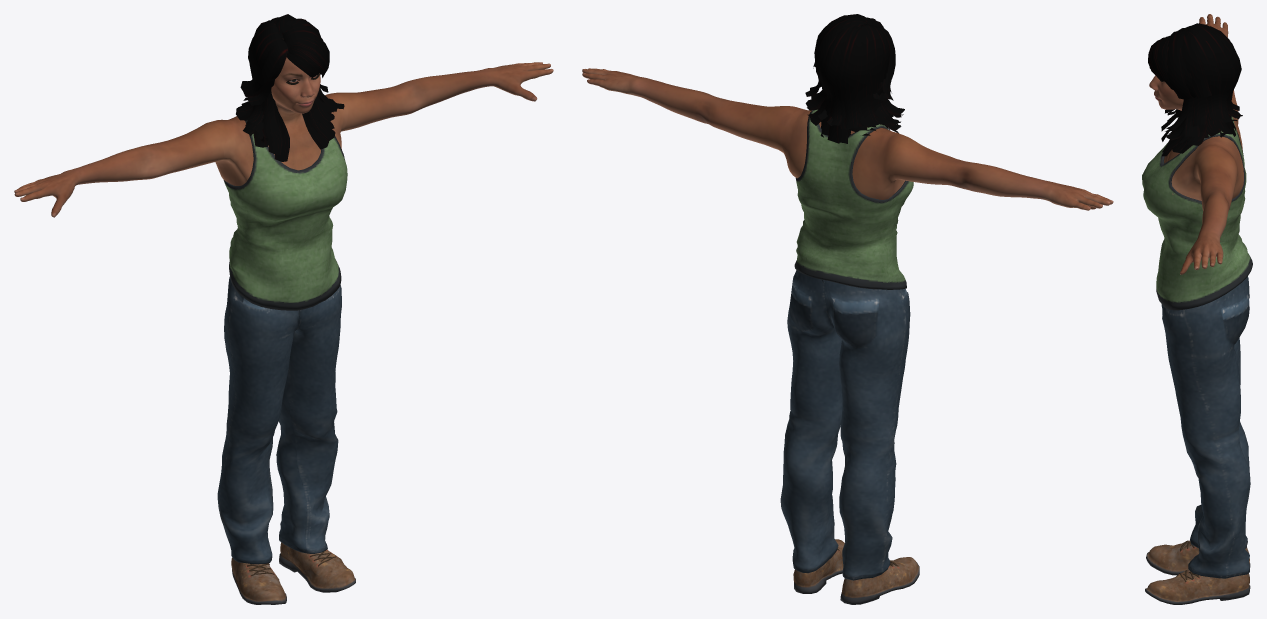
The model's file is female.obj.
3 renders of one model, left to right at view 1: azimuth 30°, elevation 25°; view 2: azimuth 150°, elevation 25°; view 3: azimuth 270°, elevation 25°, orthographic. The views are drawn at different scales.
Parts seen in each view (by area): view 1: Bottoms, Body, Tops, Hair, Shoes; view 2: Bottoms, Body, Tops, Hair, Shoes; view 3: Bottoms, Tops, Hair, Body, Shoes.
Boxes of the visible parts, x1,y1,x2,y2 form: Bottoms: (217,277,341,564); Body: (14,39,553,217); Tops: (223,120,347,310); Hair: (236,14,344,161); Shoes: (231,542,355,604); Bottoms: (780,270,910,580); Body: (582,68,1113,210); Tops: (794,109,913,289); Hair: (805,14,904,143); Shoes: (793,539,919,604); Bottoms: (1161,276,1250,578); Tops: (1142,116,1252,310); Hair: (1148,23,1242,156); Body: (1149,14,1243,274); Shoes: (1145,540,1250,604).
Size of the model in its own units: 169 by 172 by 31.08.
1 material, 1 textured.
